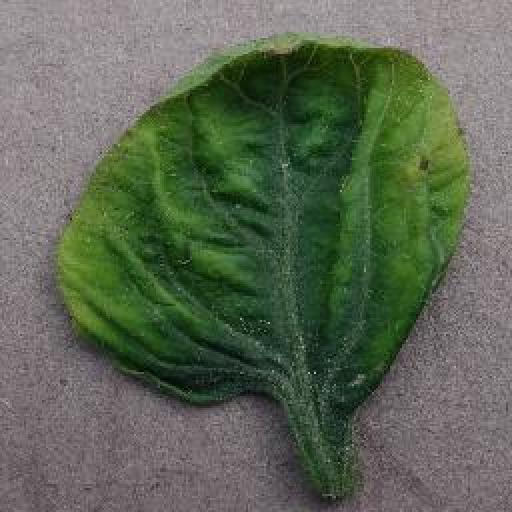Yellow Leaf Curl Virus: (58, 35, 467, 400)
